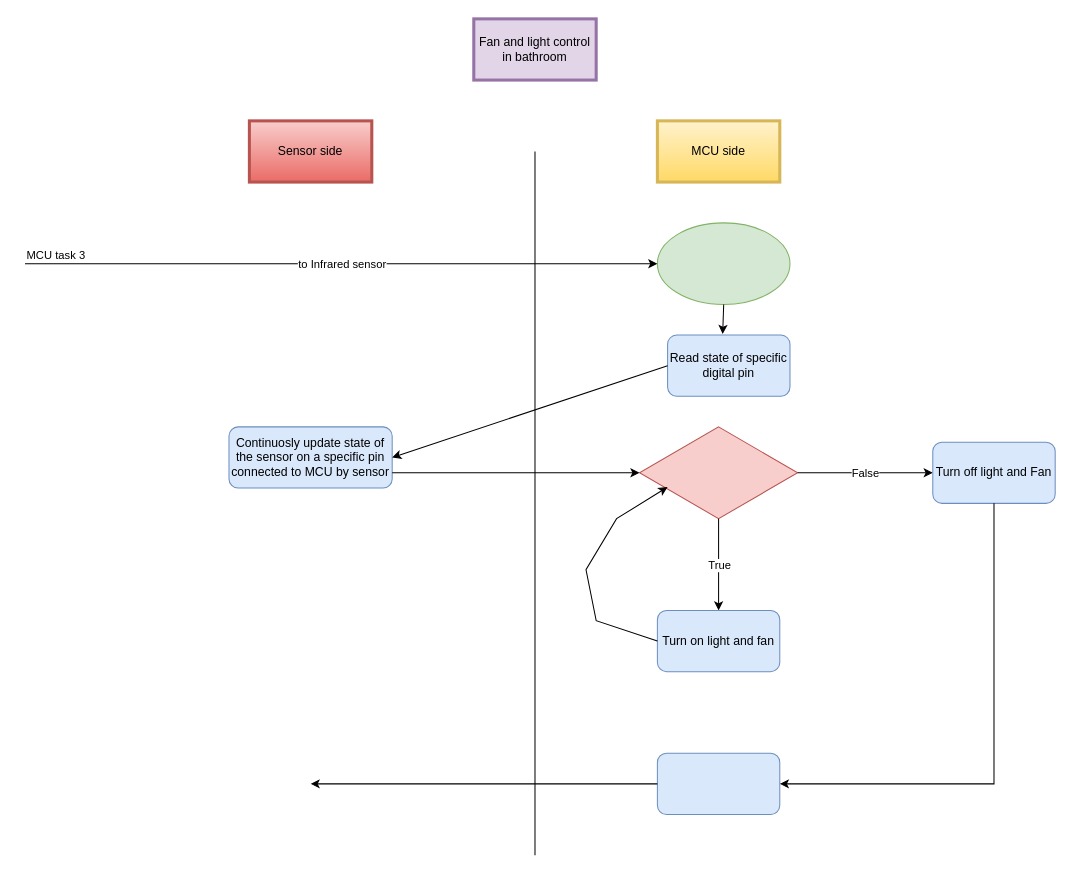
This 1073x874 diagram has some shape labels left out. The shapes that lost their labels are listed below. From the top down, each one's box as (x1, y1, x2, y2) in pixels, then its label:
(656, 222, 790, 304): Start
(639, 426, 798, 519): is high voltage level
(656, 752, 780, 814): Return to main flow of program
